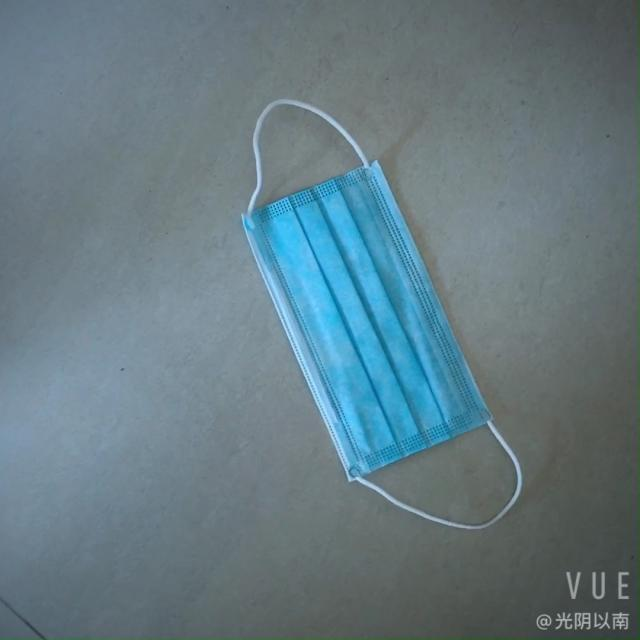face mask: (236, 148, 487, 486)
